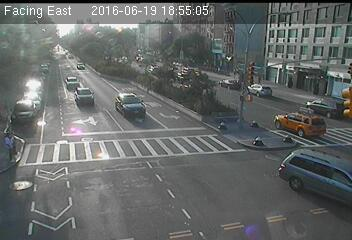neg: (237, 63, 260, 93)
